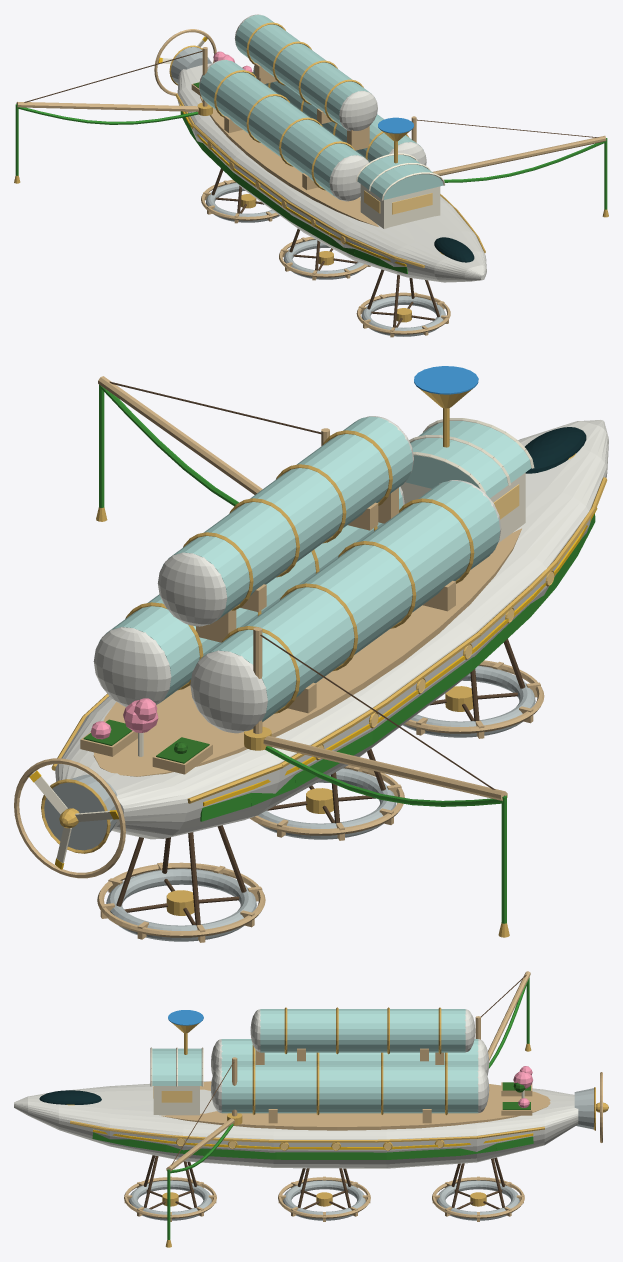
Rendered from steam_tender.obj.
The picture shows the model from 3 angles, top to bottom: view 1: azimuth 30°, elevation 25°; view 2: azimuth 150°, elevation 25°; view 3: azimuth 270°, elevation 25°; orthographic projection. The views are drawn at different scales.
Parts seen in each view (by area): view 1: steam_tender; view 2: steam_tender; view 3: steam_tender.
Part boxes in pixels (left/top/right/bottom): steam_tender: left=14, top=14, right=608, bottom=337; steam_tender: left=14, top=366, right=608, bottom=942; steam_tender: left=14, top=971, right=608, bottom=1247.
Bounding box in the file's own units: 395 × 181 × 500.
Materials: 1 (1 with a texture image).
